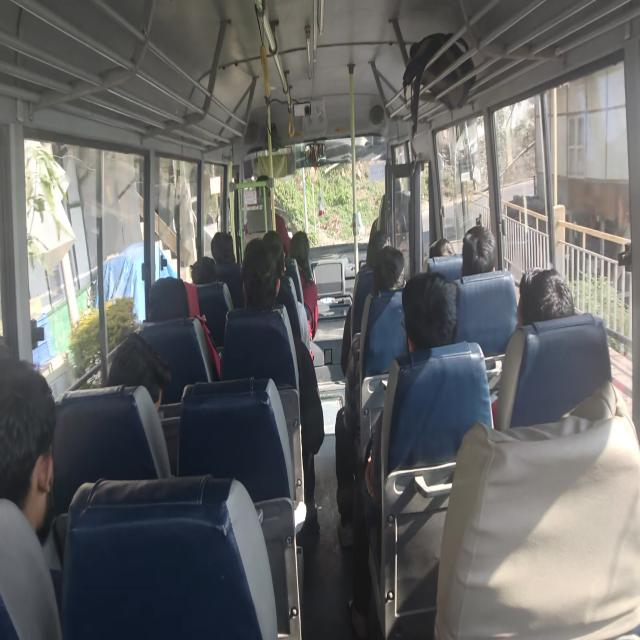person: (347, 271, 459, 637), (222, 237, 325, 539), (335, 244, 406, 541), (0, 358, 63, 638), (490, 265, 576, 426), (340, 245, 406, 375), (262, 230, 312, 352), (106, 331, 172, 413), (516, 265, 576, 327), (288, 230, 319, 338), (210, 230, 244, 308), (461, 224, 496, 276), (210, 230, 236, 264), (189, 256, 217, 284), (429, 236, 455, 258)
